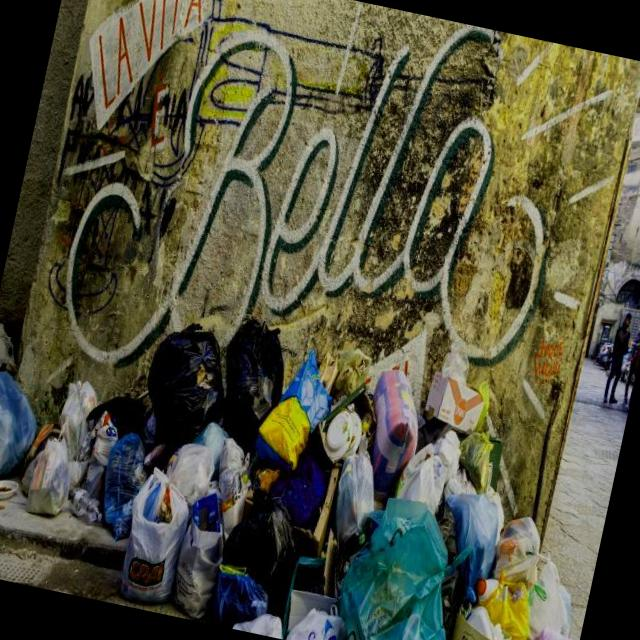high trash: (0, 319, 573, 640)
